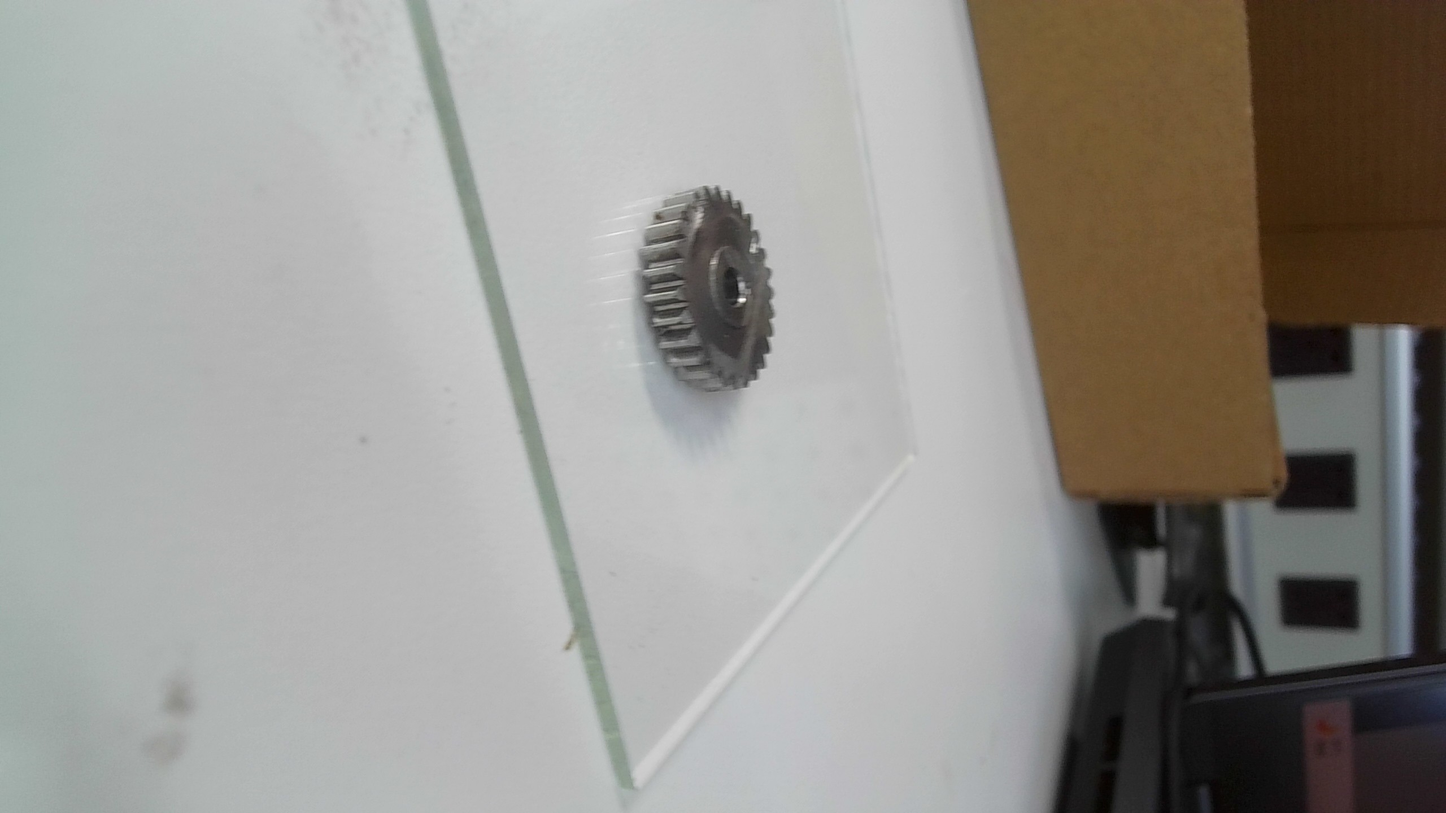gear: (637, 175, 785, 391)
